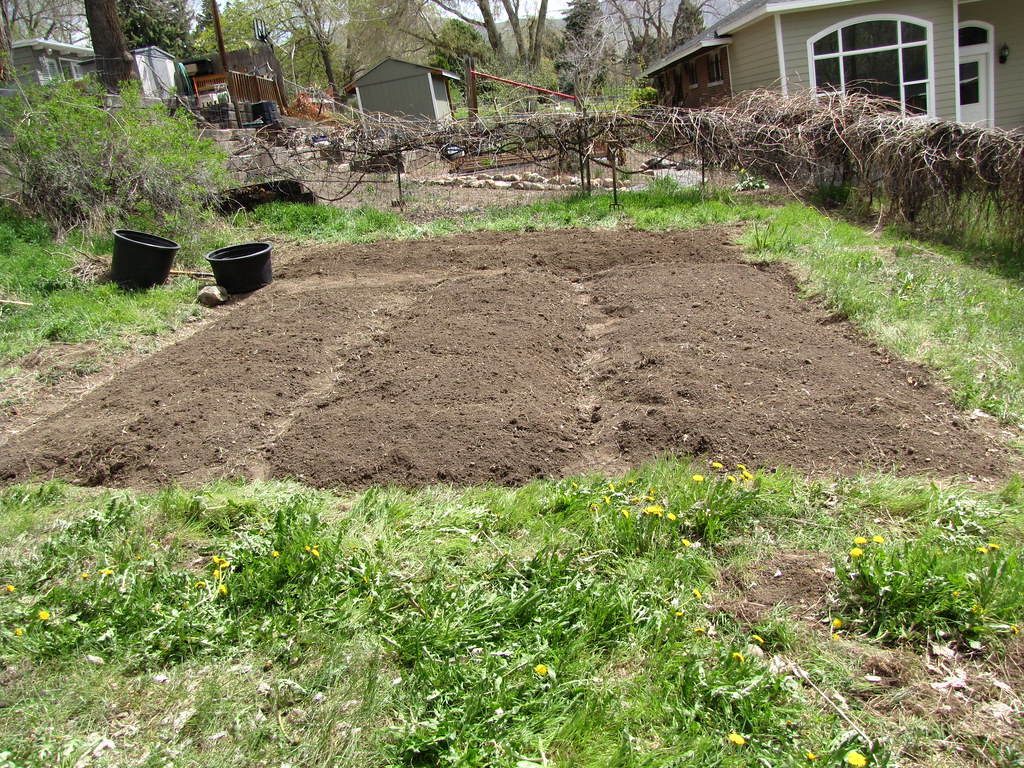dirt: (16, 340, 1003, 483), (220, 235, 850, 339)
grass: (1, 485, 1023, 762), (0, 286, 172, 413), (905, 247, 1023, 384), (760, 204, 899, 294)
